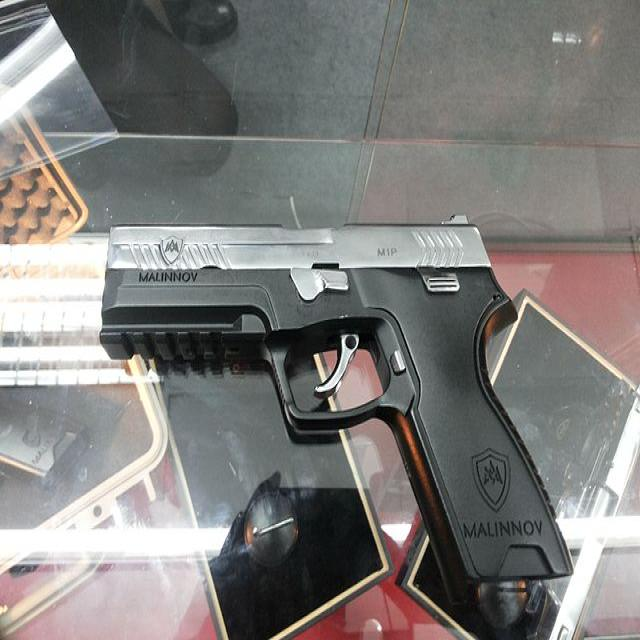HandGun: (99, 224, 573, 609)
